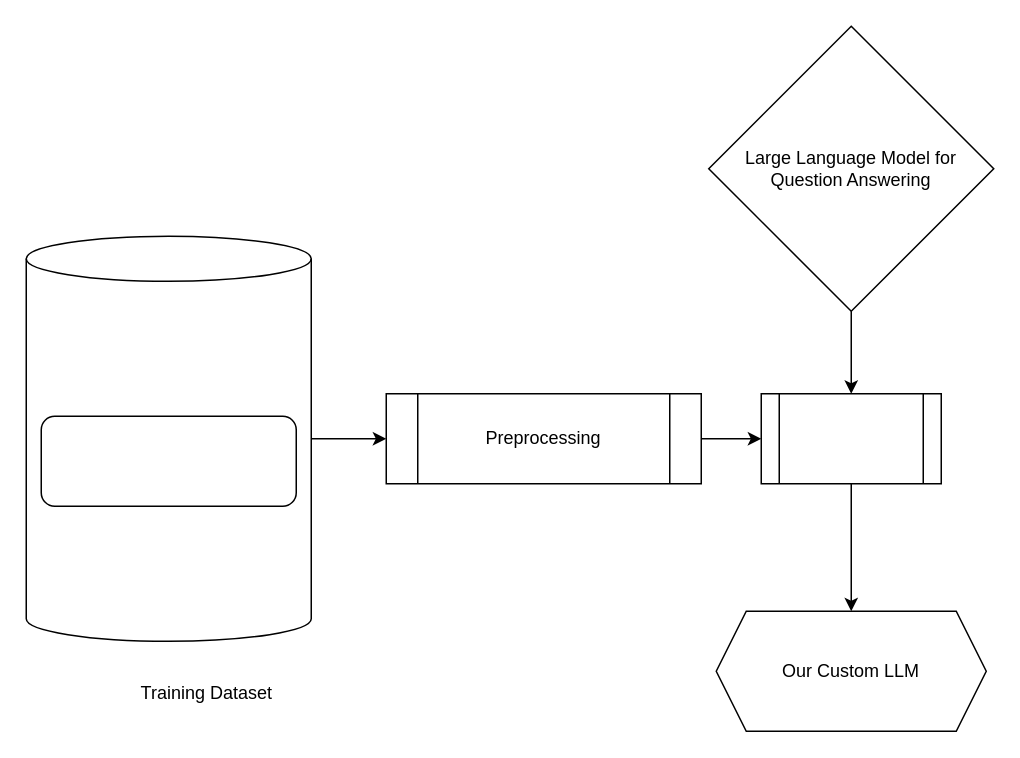
This 1020x758 diagram has some shape labels left out. Here are the shapes that lost their labels. From the top down, the centre of each, then its label:
At point (850, 438): "Finetuning".
At point (168, 460): "Scraped Dataset from Google Maps".
